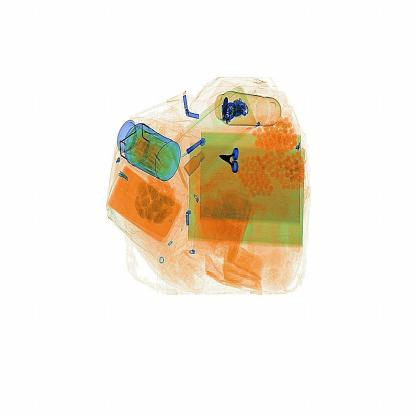gun: (215, 138, 249, 181)
